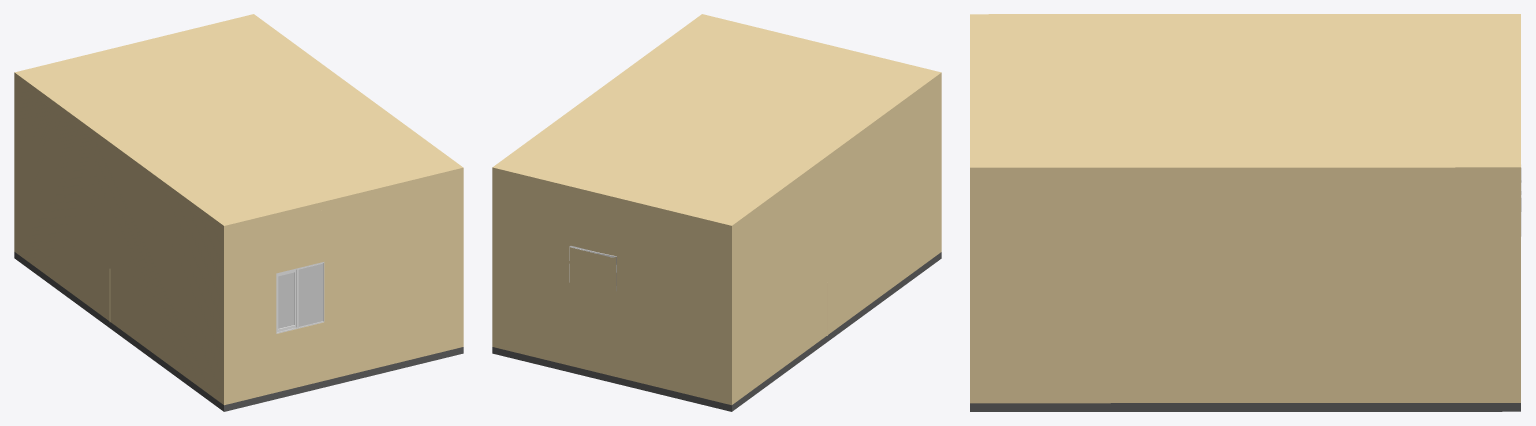
File: FloorPlan16_physics.fbx
3 renders of one model, left to right at view 1: azimuth 30°, elevation 25°; view 2: azimuth 150°, elevation 25°; view 3: azimuth 270°, elevation 25°, orthographic. The views are drawn at different scales.
Parts seen in each view (by area): view 1: Room.038, Ceiling, Floor1, WindowPane, WindowFrame; view 2: Room.038, Ceiling, Floor1; view 3: Room.038, Ceiling, Floor1.
Boxes of the visible parts, bbox=[...] form: Room.038: bbox=[14, 80, 463, 405]; Ceiling: bbox=[14, 14, 463, 233]; Floor1: bbox=[14, 252, 463, 411]; WindowPane: bbox=[278, 263, 323, 328]; WindowFrame: bbox=[276, 262, 324, 333]; Room.038: bbox=[492, 80, 941, 405]; Ceiling: bbox=[492, 14, 941, 233]; Floor1: bbox=[492, 252, 941, 411]; Room.038: bbox=[970, 178, 1520, 403]; Ceiling: bbox=[970, 14, 1520, 177]; Floor1: bbox=[970, 403, 1520, 411].
Size of the model in its own units: 455 by 338 by 691.
